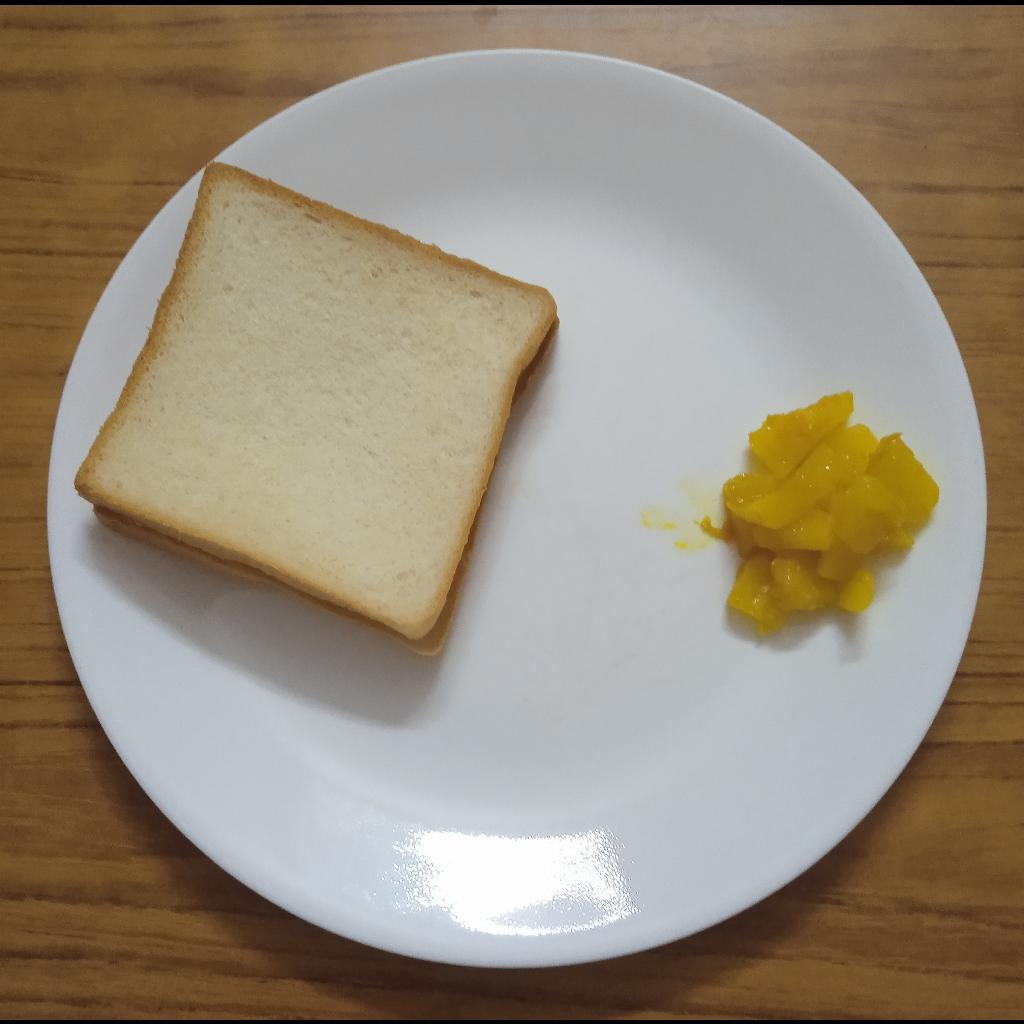bread: (71, 160, 564, 661)
lau: (707, 385, 945, 640)
